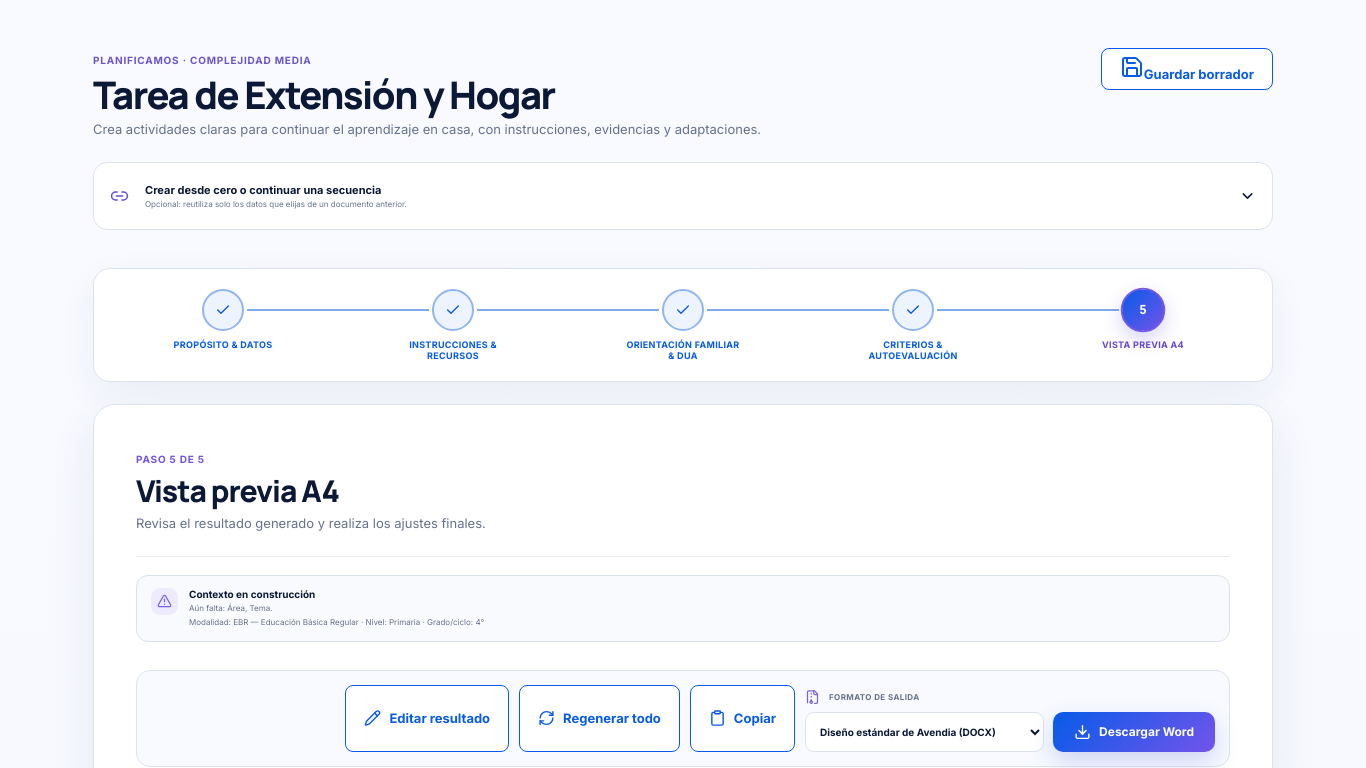
Test case: WorkflowTool validation › shows the generation contract, quality checks and the next connected tool
Click the button "Editar resultado": (427, 718) x1=345 y1=685 x2=509 y2=752
(page scrolled)
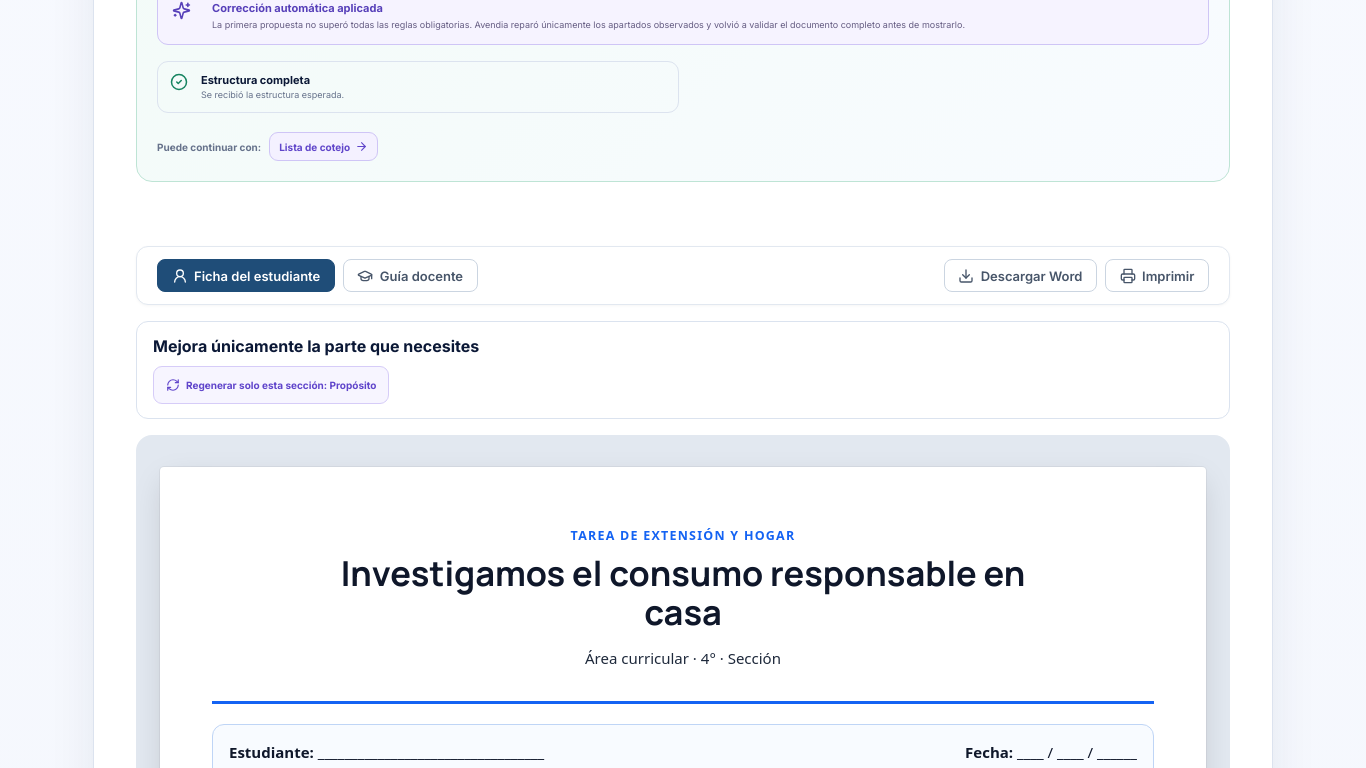
Result: the button "Regenerar solo esta sección: Propósito" is shown at x1=153 y1=366 x2=389 y2=404
